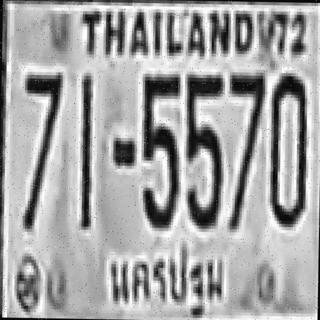N00: (267, 70, 308, 224)
N05: (182, 73, 223, 227), (183, 71, 223, 161), (140, 70, 179, 160)
N07: (226, 70, 264, 191), (21, 70, 61, 166), (227, 70, 264, 170)
P28: (100, 237, 228, 318)
